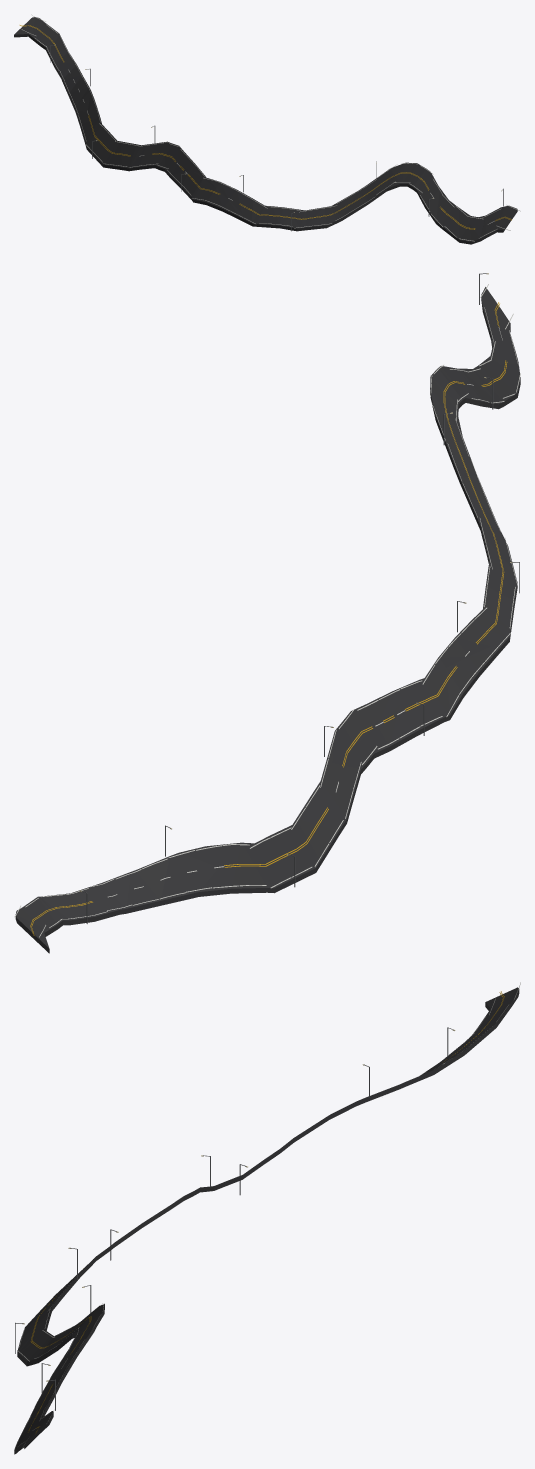
File: 17-109440-59448.b791bff0.glb
3 renders of one model, top to bottom at view 1: azimuth 30°, elevation 25°; view 2: azimuth 150°, elevation 25°; view 3: azimuth 330°, elevation 25°, orthographic. The views are drawn at different scales.
Bounding box in the file's own units: 71.72 × 52.08 × 296.
